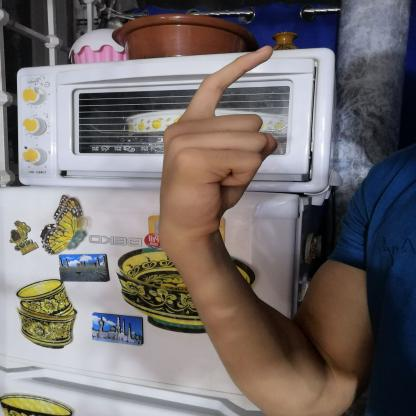RAA: (136, 35, 294, 242)
